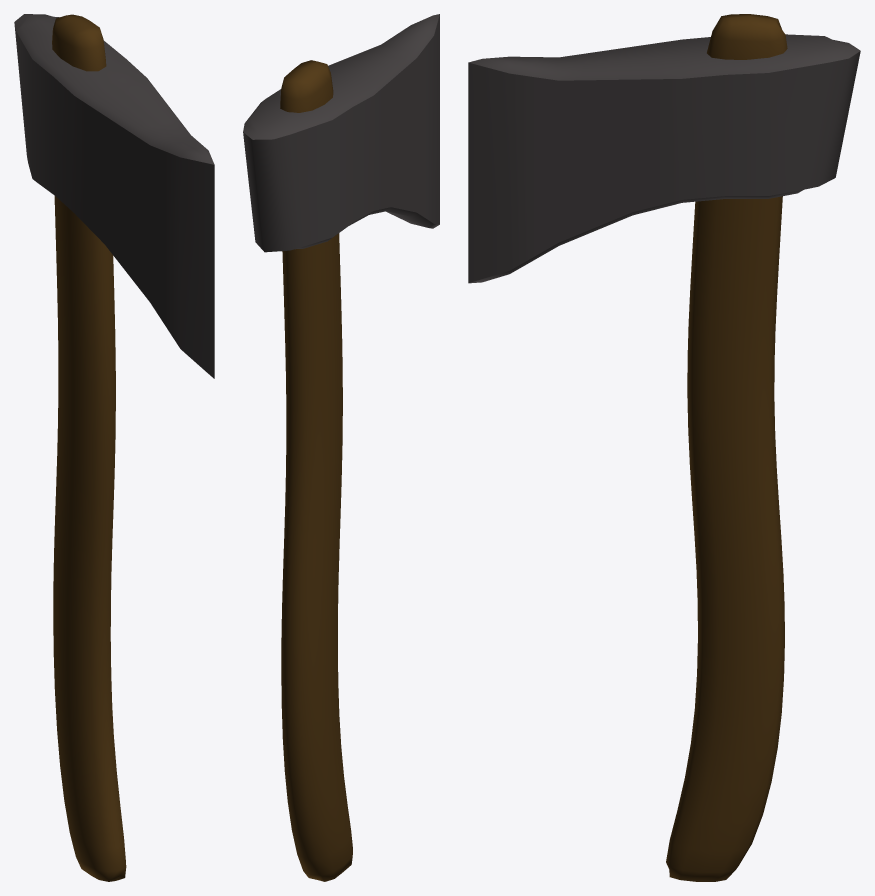
File: SM_Axe.fbx
The picture shows the model from 3 angles, left to right: view 1: azimuth 30°, elevation 25°; view 2: azimuth 150°, elevation 25°; view 3: azimuth 270°, elevation 25°; orthographic projection. The views are drawn at different scales.
Parts seen in each view (by area): view 1: SM_AxeHandle, SM_AxeHead; view 2: SM_AxeHandle, SM_AxeHead; view 3: SM_AxeHead, SM_AxeHandle.
Part boxes in pixels (x1,y1,x2,y2): SM_AxeHandle: (52,14,126,881); SM_AxeHead: (14,14,214,378); SM_AxeHandle: (280,60,352,881); SM_AxeHead: (243,14,439,252); SM_AxeHead: (468,34,860,283); SM_AxeHandle: (666,14,787,881).
Bounding box in the file's own units: 6.53 × 71.65 × 29.56.
